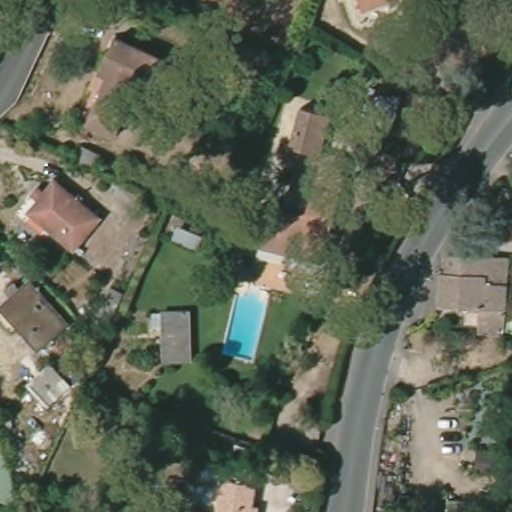pool: (226, 286, 275, 365)
